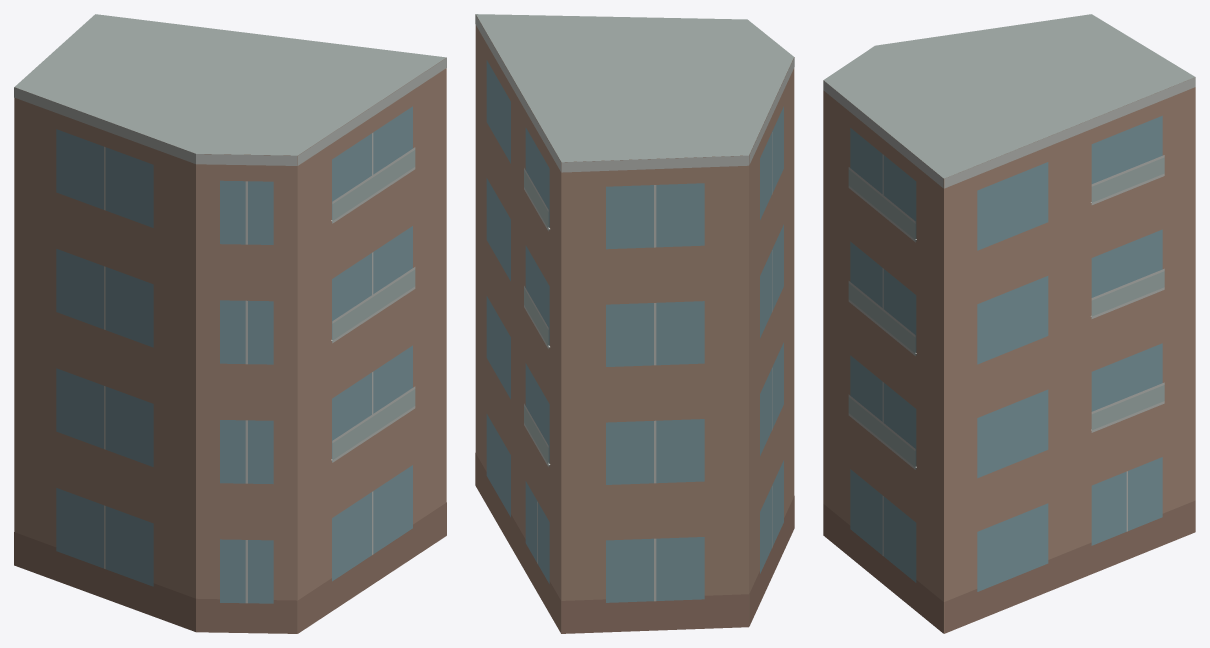
File: survey-upis-32461528.glb
3 views of the same model, side by side, from view 1: azimuth 30°, elevation 25°; view 2: azimuth 150°, elevation 25°; view 3: azimuth 270°, elevation 25° (orthographic). The views are drawn at different scales.
Parts seen in each view (by area): view 1: survey-upis-32461528.tmp; view 2: survey-upis-32461528.tmp; view 3: survey-upis-32461528.tmp.
Boxes of the visible parts, x1=… form: survey-upis-32461528.tmp: x1=14, y1=14, x2=446, y2=633; survey-upis-32461528.tmp: x1=475, y1=14, x2=794, y2=633; survey-upis-32461528.tmp: x1=823, y1=14, x2=1195, y2=633.
Size of the model in its own units: 8.66 by 11.15 by 8.27.
